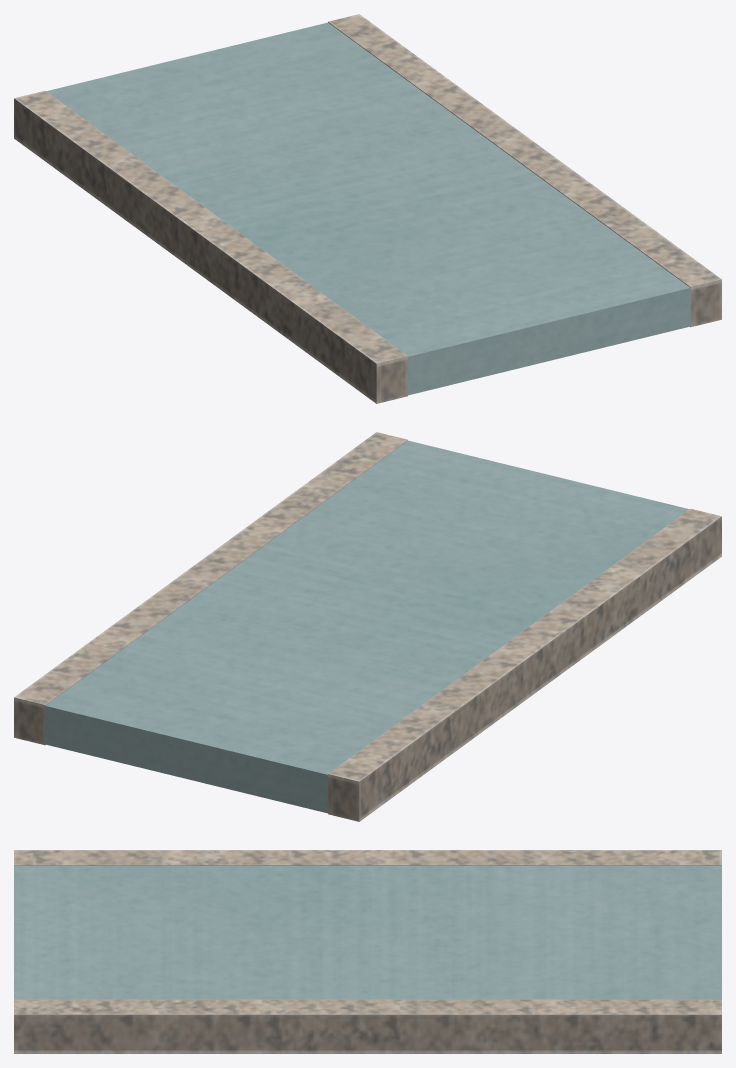
Rendered from set_base_a_02.fbx.
The picture shows the model from 3 angles, top to bottom: view 1: azimuth 30°, elevation 25°; view 2: azimuth 150°, elevation 25°; view 3: azimuth 270°, elevation 25°; orthographic projection. The views are drawn at different scales.
Visible parts, largest first — view 1: set_base_a_02; view 2: set_base_a_02; view 3: set_base_a_02.
Part boxes in pixels (<box>): set_base_a_02: <box>14,14,721,403</box>; set_base_a_02: <box>14,432,721,821</box>; set_base_a_02: <box>14,850,721,1053</box>.
Bounding box in the file's own units: 110 × 12.25 × 200.
